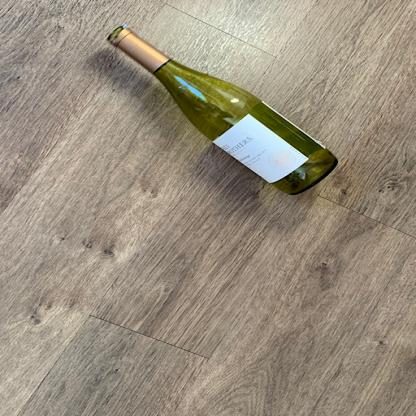trash: (104, 25, 340, 195)
